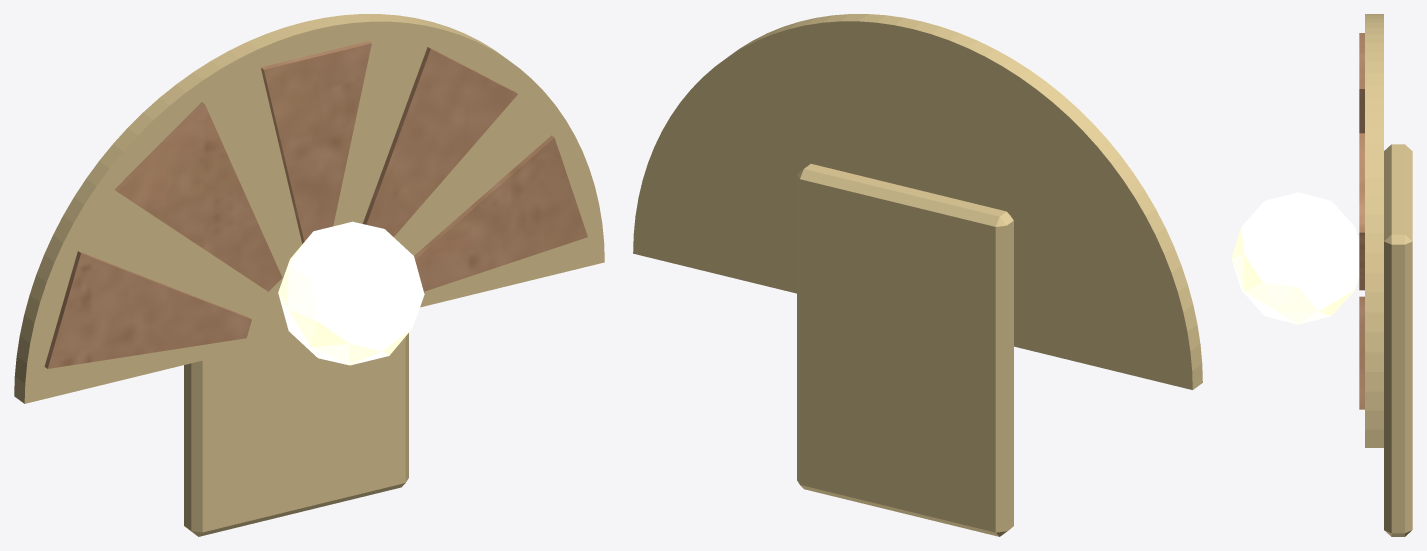
File: sconce.glb
The picture shows the model from 3 angles, left to right: view 1: azimuth 30°, elevation 25°; view 2: azimuth 150°, elevation 25°; view 3: azimuth 270°, elevation 25°; orthographic projection. The views are drawn at different scales.
Parts seen in each view (by area): view 1: sconce_gold, sconce_aplaster, sconce_lamp_glass; view 2: sconce_gold; view 3: sconce_gold, sconce_lamp_glass, sconce_aplaster.
Boxes of the visible parts, <box> form: sconce_gold: <box>14,14,604,536</box>; sconce_aplaster: <box>44,41,587,368</box>; sconce_lamp_glass: <box>278,221,424,365</box>; sconce_gold: <box>633,14,1202,536</box>; sconce_gold: <box>1365,14,1412,536</box>; sconce_lamp_glass: <box>1231,192,1359,324</box>; sconce_aplaster: <box>1359,33,1364,409</box>.
Bounding box in the file's own units: 0.64 × 0.52 × 0.19.
3 materials, 1 textured.
